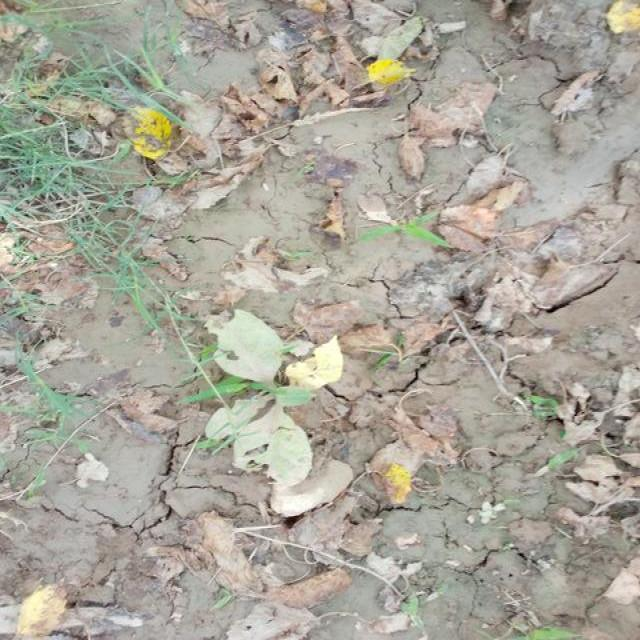crop: (202, 314, 344, 498)
